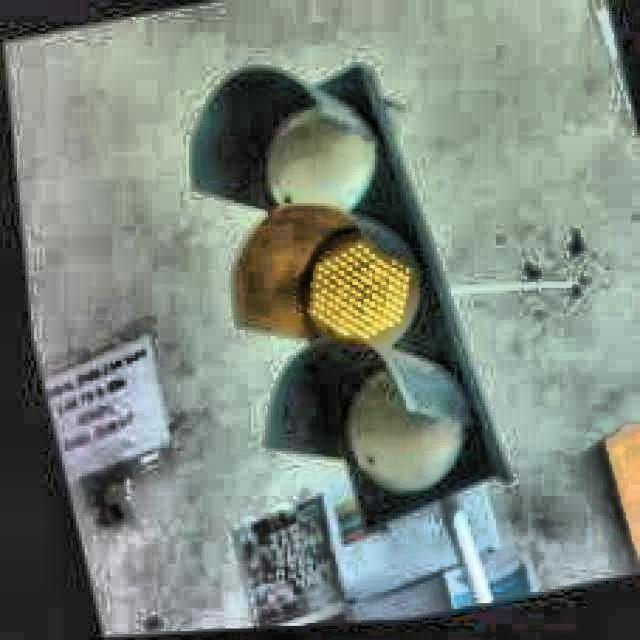yellow: (209, 76, 502, 492)
